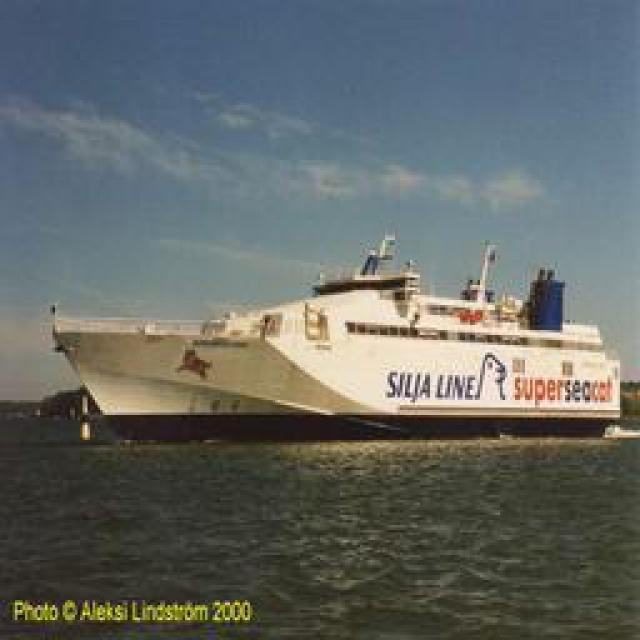Ship: (56, 233, 629, 438)
